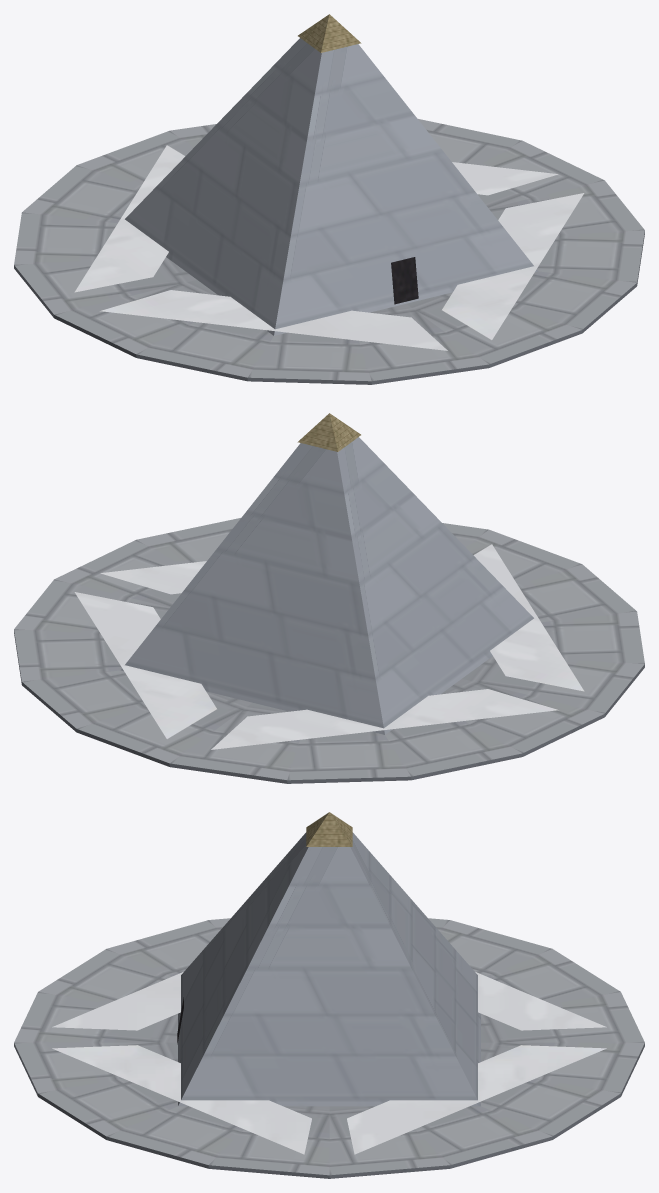
The model's file is pyramid_large_lod2.glb.
The picture shows the model from 3 angles, top to bottom: view 1: azimuth 30°, elevation 25°; view 2: azimuth 150°, elevation 25°; view 3: azimuth 270°, elevation 25°; orthographic projection.
Parts seen in each view (by area): view 1: pyramid_large_lod2; view 2: pyramid_large_lod2; view 3: pyramid_large_lod2.
Part boxes in pixels (left/top/right/bottom): pyramid_large_lod2: left=14, top=14, right=644, bottom=384; pyramid_large_lod2: left=14, top=413, right=644, bottom=783; pyramid_large_lod2: left=14, top=812, right=644, bottom=1178.
Bounding box in the file's own units: 1.89 × 0.779 × 1.9.
1 material, 1 textured.
